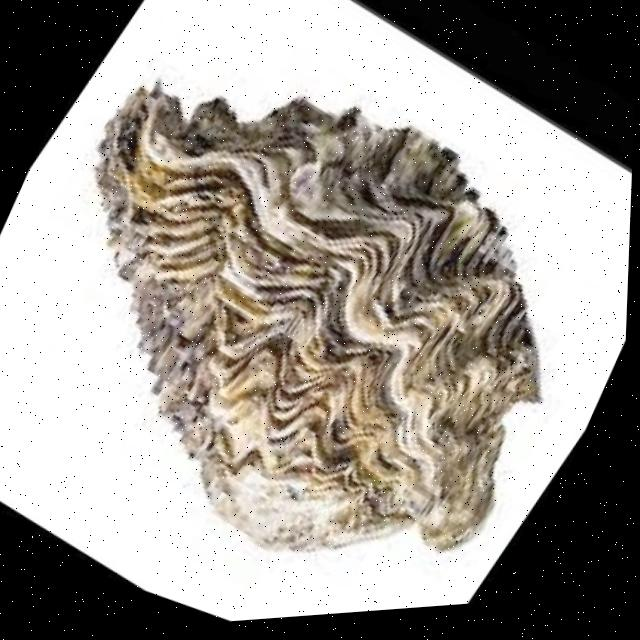Oyster-Closed: (92, 89, 541, 554)
